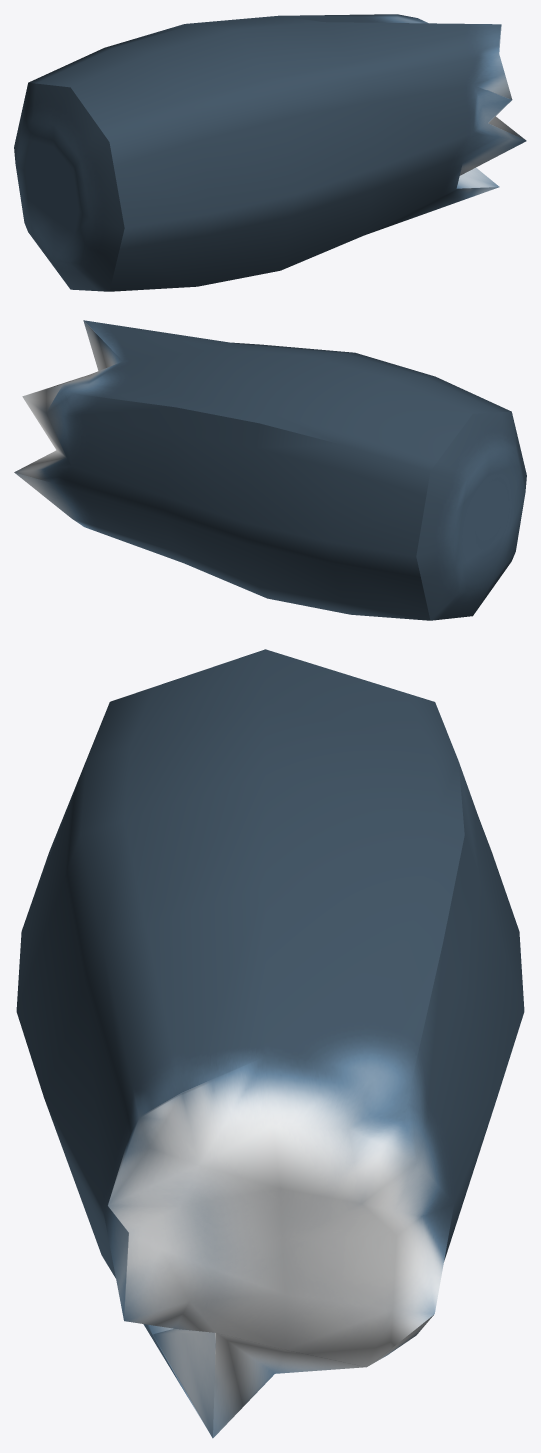
The model's file is rippedArm_Blue.fbx.
3 views of the same model, one above another, from view 1: azimuth 30°, elevation 25°; view 2: azimuth 150°, elevation 25°; view 3: azimuth 270°, elevation 25° (orthographic). The views are drawn at different scales.
Parts seen in each view (by area): view 1: pCube1; view 2: pCube1; view 3: pCube1.
Part boxes in pixels (x1=…): pCube1: x1=14, y1=14, x2=526, y2=291; pCube1: x1=14, y1=320, x2=526, y2=620; pCube1: x1=16, y1=649, x2=524, y2=1438.
Size of the model in its own units: 1.18 by 0.6021 by 0.5848.
Materials: 1 (1 with a texture image).
